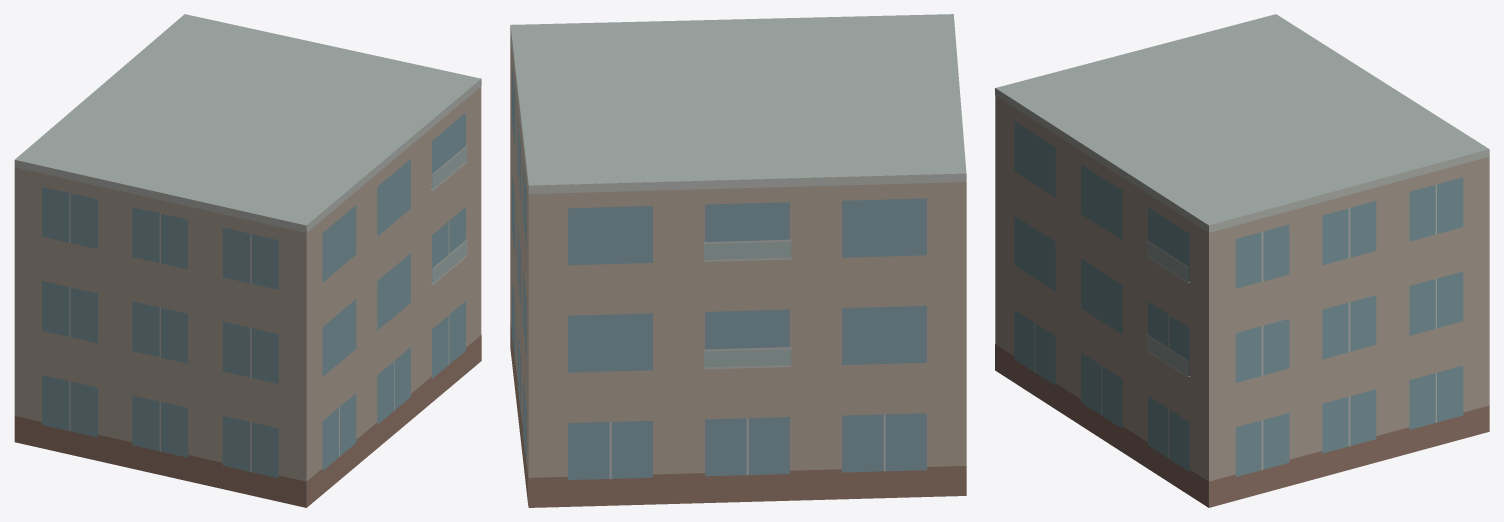
File: survey-upis-32685090.glb
3 renders of one model, left to right at view 1: azimuth 30°, elevation 25°; view 2: azimuth 150°, elevation 25°; view 3: azimuth 270°, elevation 25°, orthographic. The views are drawn at different scales.
Visible parts, largest first — view 1: survey-upis-32685090.tmp; view 2: survey-upis-32685090.tmp; view 3: survey-upis-32685090.tmp.
Boxes of the visible parts, x1,y1,x2,y2 form: survey-upis-32685090.tmp: (14,14,481,507); survey-upis-32685090.tmp: (510,14,966,507); survey-upis-32685090.tmp: (995,14,1489,507).
Size of the model in its own units: 14.86 by 9.25 by 14.68.
